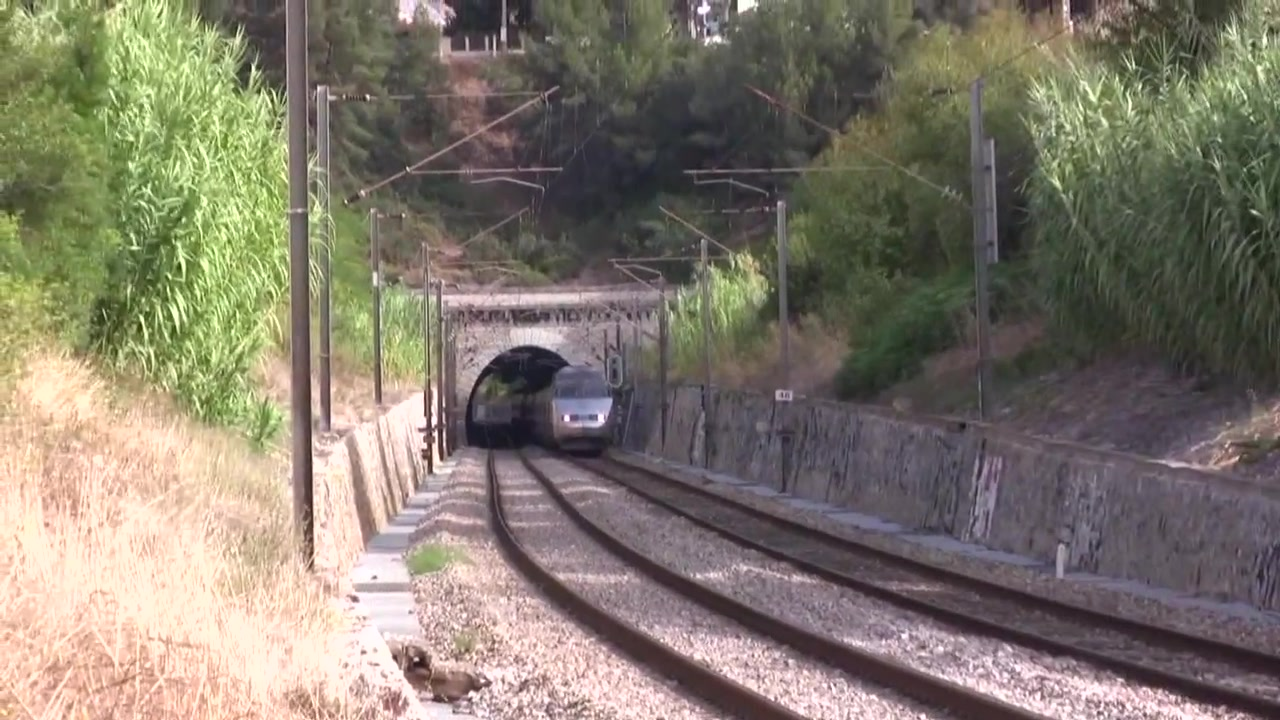train: (486, 357, 622, 460)
